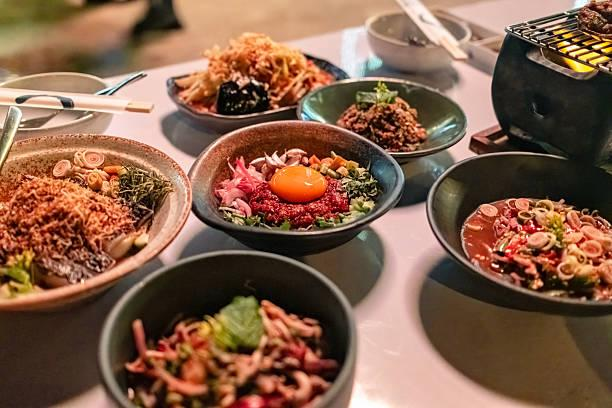Braised Crucian Carp: (98, 249, 358, 405), (0, 133, 190, 300), (426, 152, 607, 310), (186, 120, 399, 251), (166, 27, 339, 132), (298, 73, 468, 160)
